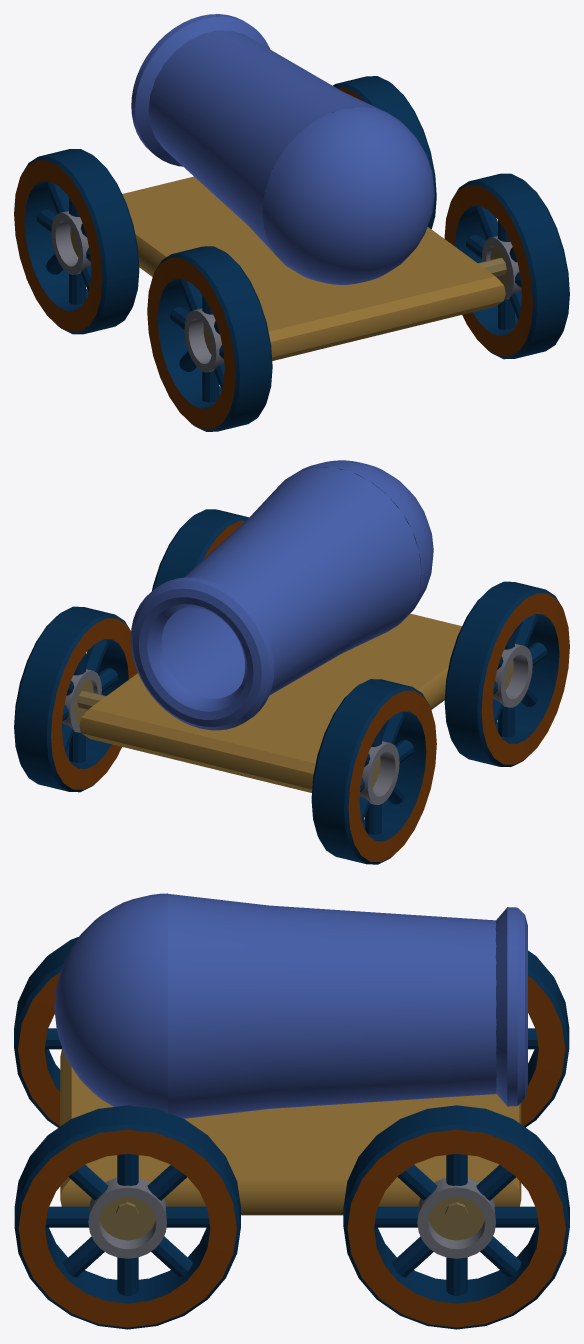
The model's file is top.fbx.
3 views of the same model, one above another, from view 1: azimuth 30°, elevation 25°; view 2: azimuth 150°, elevation 25°; view 3: azimuth 270°, elevation 25° (orthographic). The views are drawn at different scales.
Visible parts, largest first — view 1: Torus.001, Cube, Cylinder.008, Cylinder.012, Cylinder.021, Cylinder.018, Cylinder.007, Cylinder.011, Cylinder.020, Cylinder.006, Cylinder.010, Cylinder.019 (+1 smaller); view 2: Torus.001, Cube, Cylinder.012, Cylinder.008, Cylinder.018, Cylinder.021, Cylinder.007, Cylinder.011, Cylinder.017, Cylinder.006, Cylinder.010, Cylinder.016 (+1 smaller); view 3: Torus.001, Cylinder.018, Cylinder.021, Cube, Cylinder.017, Cylinder.020, Cylinder.008, Cylinder.012, Cylinder.016, Cylinder.019, Cylinder.023, Cylinder.024.
Part boxes in pixels (x1=…): Torus.001: x1=131, y1=14, x2=434, y2=284; Cube: x1=122, y1=176, x2=505, y2=360; Cylinder.008: x1=147, y1=246, x2=272, y2=431; Cylinder.012: x1=14, y1=149, x2=139, y2=334; Cylinder.021: x1=444, y1=173, x2=569, y2=359; Cylinder.018: x1=333, y1=76, x2=436, y2=229; Cylinder.007: x1=170, y1=279, x2=224, y2=402; Cylinder.011: x1=37, y1=181, x2=91, y2=304; Cylinder.020: x1=466, y1=206, x2=521, y2=329; Cylinder.006: x1=184, y1=308, x2=224, y2=372; Cylinder.010: x1=51, y1=211, x2=90, y2=274; Cylinder.019: x1=482, y1=236, x2=521, y2=299; Torus.001: x1=130, y1=460, x2=433, y2=730; Cube: x1=79, y1=613, x2=461, y2=792; Cylinder.012: x1=311, y1=679, x2=436, y2=864; Cylinder.008: x1=444, y1=581, x2=569, y2=766; Cylinder.018: x1=14, y1=606, x2=137, y2=792; Cylinder.021: x1=152, y1=509, x2=248, y2=590; Cylinder.007: x1=492, y1=614, x2=546, y2=737; Cylinder.011: x1=359, y1=712, x2=413, y2=834; Cylinder.017: x1=62, y1=639, x2=117, y2=762; Cylinder.006: x1=493, y1=643, x2=532, y2=707; Cylinder.010: x1=360, y1=741, x2=399, y2=804; Cylinder.016: x1=62, y1=669, x2=101, y2=732; Torus.001: x1=54, y1=893, x2=527, y2=1118; Cylinder.018: x1=343, y1=1105, x2=569, y2=1329; Cylinder.021: x1=14, y1=1105, x2=240, y2=1329; Cube: x1=60, y1=1048, x2=521, y2=1215; Cylinder.017: x1=374, y1=1154, x2=538, y2=1295; Cylinder.020: x1=45, y1=1154, x2=209, y2=1295; Cylinder.008: x1=14, y1=937, x2=78, y2=1127; Cylinder.012: x1=521, y1=950, x2=569, y2=1127; Cylinder.016: x1=417, y1=1177, x2=495, y2=1258; Cylinder.019: x1=88, y1=1177, x2=166, y2=1258; Cylinder.023: x1=428, y1=1197, x2=484, y2=1240; Cylinder.024: x1=99, y1=1197, x2=155, y2=1240.
Bounding box in the file's own units: 422 × 318 × 491.
